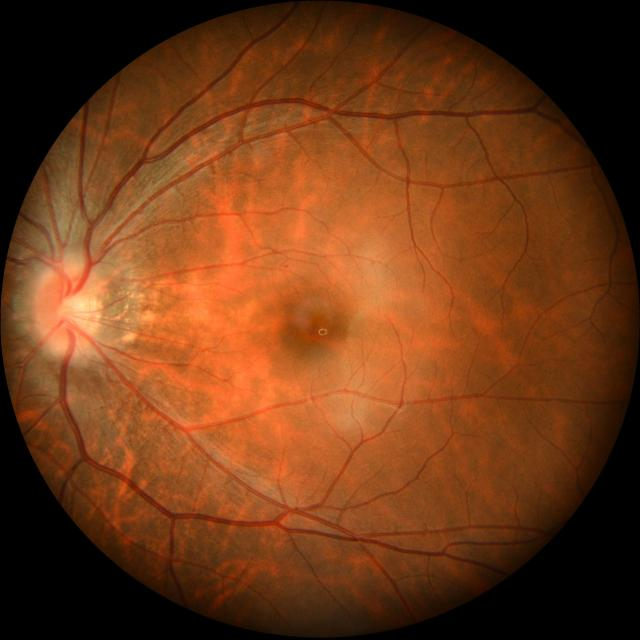OC: (58, 296, 93, 327)
OD: (32, 258, 101, 356)
